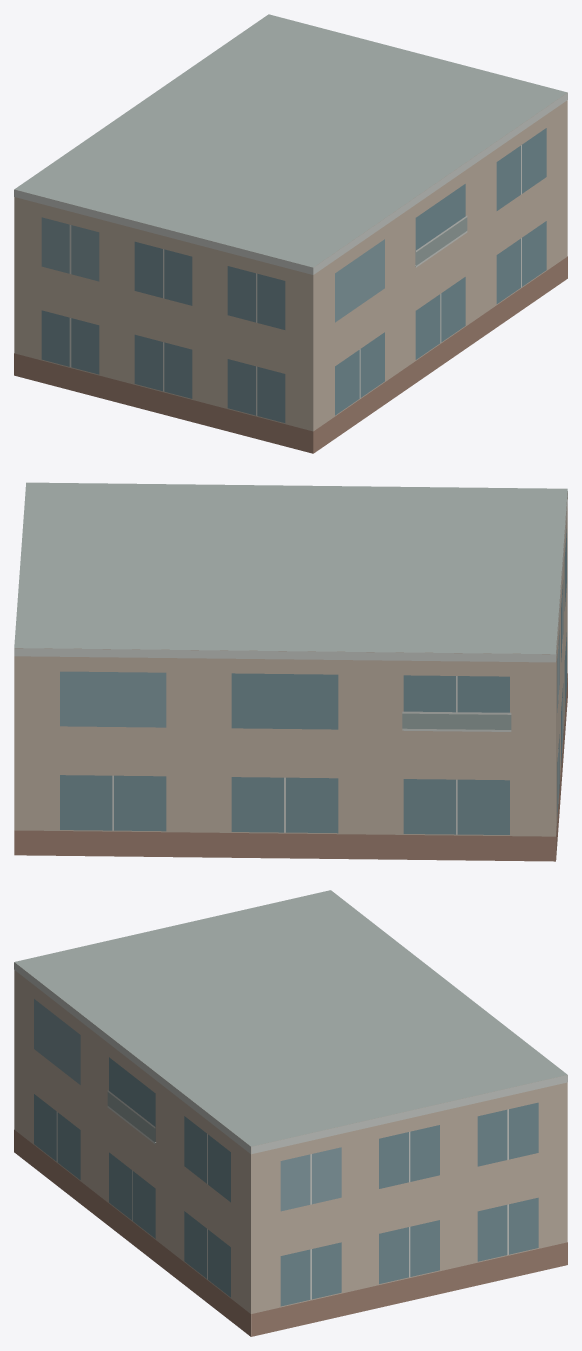
File: survey-upis-32694467.glb
3 renders of one model, top to bottom at view 1: azimuth 30°, elevation 25°; view 2: azimuth 150°, elevation 25°; view 3: azimuth 270°, elevation 25°, orthographic. The views are drawn at different scales.
Parts seen in each view (by area): view 1: survey-upis-32694467.tmp; view 2: survey-upis-32694467.tmp; view 3: survey-upis-32694467.tmp.
Part boxes in pixels (<box>): survey-upis-32694467.tmp: <box>14,14,567,453</box>; survey-upis-32694467.tmp: <box>14,482,567,861</box>; survey-upis-32694467.tmp: <box>14,890,567,1336</box>.
Size of the model in its own units: 17.67 by 6.1 by 16.11.
